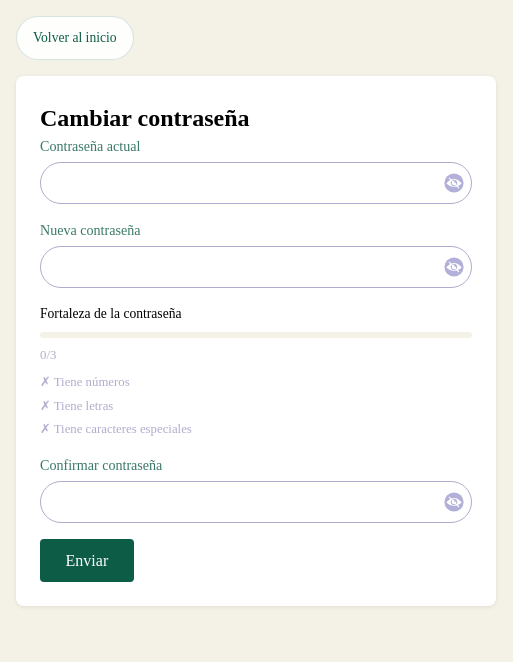
Test: ChangePasswordPage › shows success message after successful change
Type "oldpass" into the password field labelled "Contraseña actual" at (256, 183), box left=40, top=162, right=472, bottom=204
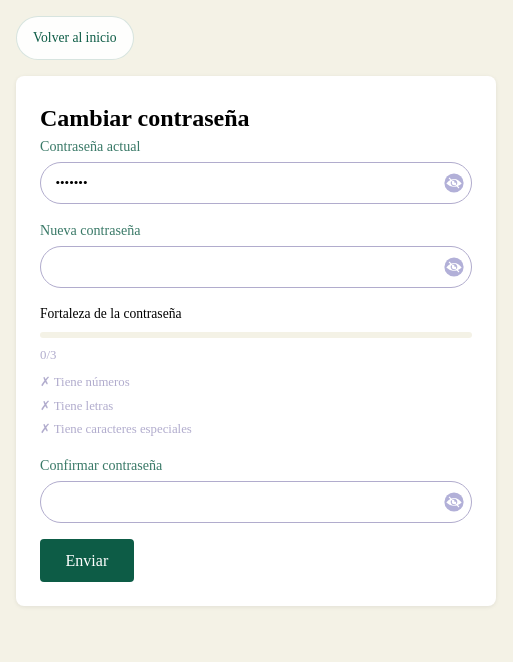
Type "newpass123" into the password field labelled "Nueva contraseña" at (256, 267), box left=40, top=246, right=472, bottom=288
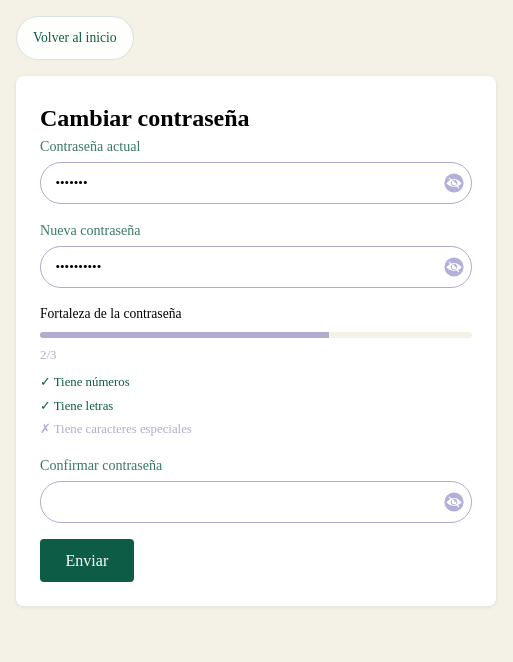
Type "newpass123" into the password field labelled "Confirmar contraseña" at (256, 502), box left=40, top=481, right=472, bottom=523
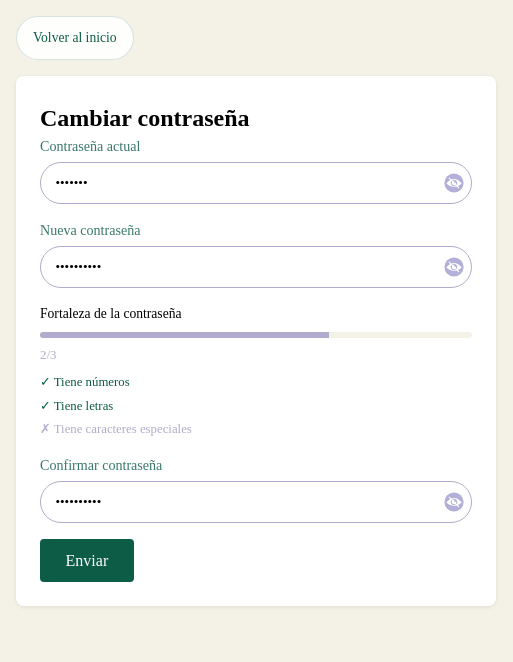
Submit the form named "Enviar", box left=40, top=136, right=472, bottom=582
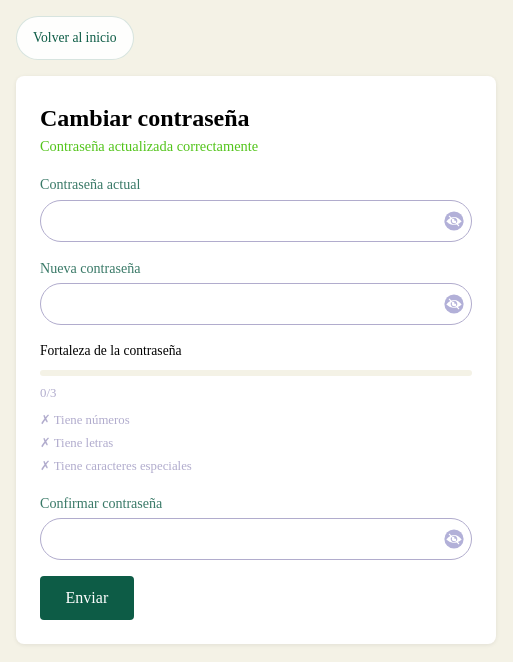
Expected: the text "Contraseña actualizada correctamente" is shown, left=40, top=138, right=258, bottom=154
